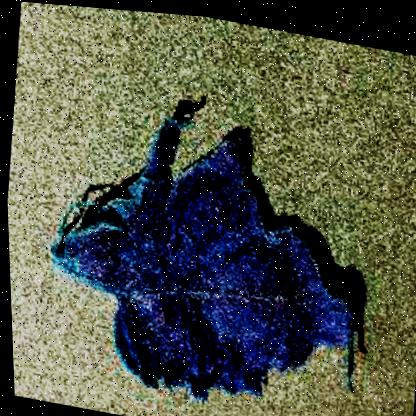Virus: (29, 66, 386, 415)
